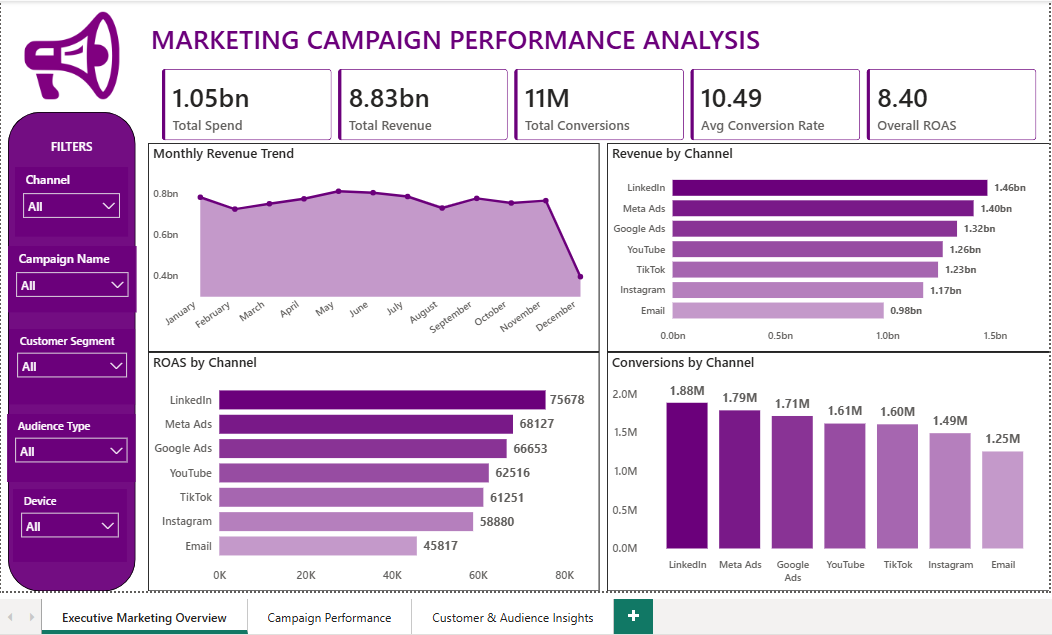

What the dashboard file says about the page in this screenshot:
{"tool":"powerbi","page":{"name":"Executive Marketing Overview","canvas":[1280,720],"ordinal":0},"visuals":[{"type":"image","box":[8.5,8.5,156.2,115.9],"z":0},{"type":"shape","box":[8.3,134.9,155.5,584.9],"z":1000},{"type":"slicer","fields":{"Values":["cleaned_campaigns.Channel"]},"box":[16.5,202.3,137.6,85.3],"z":2000},{"type":"slicer","fields":{"Values":["cleaned_campaigns.Campaign_Name"]},"box":[8.3,298.7,156.9,81.2],"z":3000},{"type":"slicer","fields":{"Values":["cleaned_customers.Customer_Segment"]},"box":[9.6,400.5,154.2,92.2],"z":4000},{"type":"slicer","fields":{"Values":["cleaned_performance.Audience_Type"]},"box":[6.9,503.7,156.9,82.6],"z":5000},{"type":"slicer","fields":{"Values":["cleaned_performance.Device"]},"box":[15.1,596,139,89.5],"z":6000},{"type":"textbox","box":[178.7,18.7,1101.3,65.3],"z":7000},{"type":"cardVisual","fields":{"Data":["cleaned_performance.Total Spend","cleaned_performance.Total Revenue","cleaned_performance.Total Conversions","cleaned_performance.Avg Conversion Rate","cleaned_performance.Overall ROAS"]},"box":[178.9,66.1,1101.1,121.1],"z":8000},{"type":"lineChart","title":"Monthly Revenue Trend","fields":{"Category":["cleaned_performance.Date.Variation.Date Hierarchy.Month"],"Y":["cleaned_performance.Total Revenue"]},"box":[178.9,173.4,550.5,254.6],"z":9000},{"type":"barChart","title":"Revenue by Channel","fields":{"Y":["cleaned_performance.Total Revenue"],"Category":["cleaned_campaigns.Channel"]},"box":[739.1,173.4,540.9,254.6],"z":10000},{"type":"barChart","title":"ROAS by Channel","fields":{"Category":["cleaned_campaigns.Channel"],"Y":["Sum(cleaned_performance.ROAS)"]},"box":[178.9,428,550.5,291.8],"z":11000},{"type":"columnChart","title":"Conversions by Channel","fields":{"Category":["cleaned_campaigns.Channel"],"Y":["Sum(cleaned_performance.Conversions)"]},"box":[739.1,428,540.9,291.8],"z":12000}]}

Visuals, with their boxes on the page's 1280x720 design canvas (x1, y1, x2, y2). These are canvas units, not pixel positions in the 1052x635 screenshot, which may show the page scaled, cropped or inside an application window:
image: 8,8,165,124
shape: 8,135,164,720
slicer - cleaned_campaigns.Channel: 16,202,154,288
slicer - cleaned_campaigns.Campaign_Name: 8,299,165,380
slicer - cleaned_customers.Customer_Segment: 10,400,164,493
slicer - cleaned_performance.Audience_Type: 7,504,164,586
slicer - cleaned_performance.Device: 15,596,154,686
textbox: 179,19,1280,84
cardVisual - cleaned_performance.Total Spend x cleaned_performance.Total Revenue: 179,66,1280,187
"Monthly Revenue Trend" lineChart: 179,173,729,428
"Revenue by Channel" barChart: 739,173,1280,428
"ROAS by Channel" barChart: 179,428,729,720
"Conversions by Channel" columnChart: 739,428,1280,720
